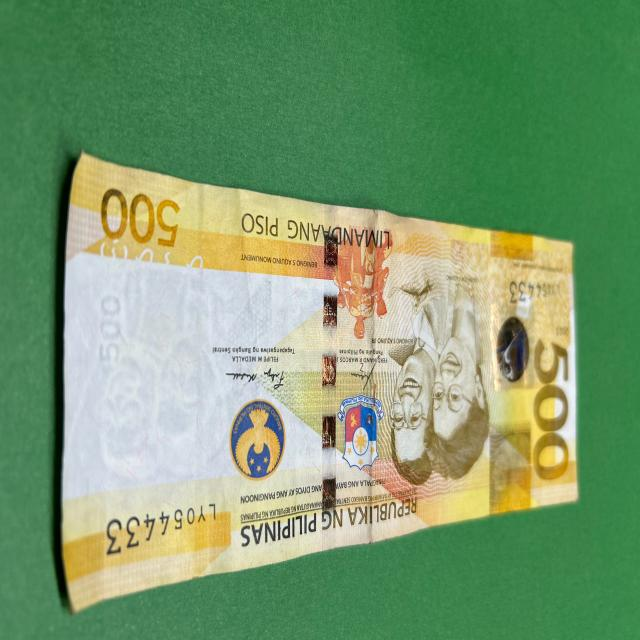concealed_value: (492, 428, 531, 511)
security_thread: (307, 200, 341, 553)
see_through_mark: (85, 230, 214, 286)
serial_number: (98, 491, 227, 556)
value: (524, 331, 573, 488)
value_watermark: (94, 288, 122, 370)
watermark: (74, 266, 223, 486)
